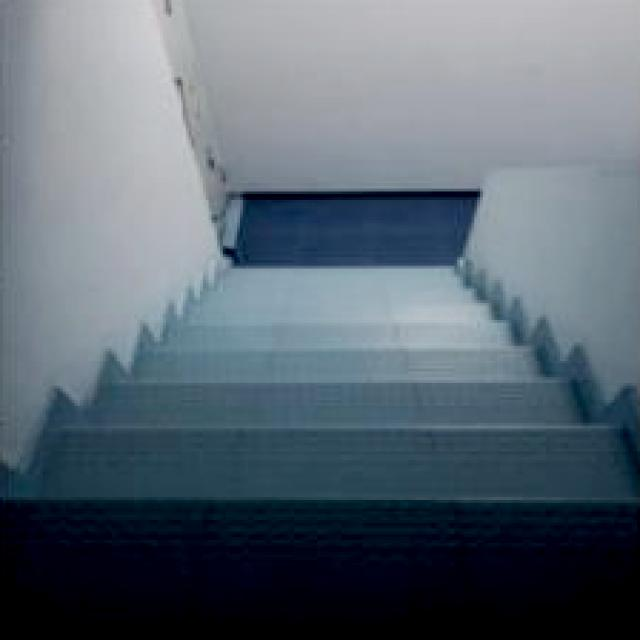downstair: (67, 344, 510, 575)
